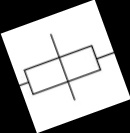t7: (14, 38, 116, 97)
